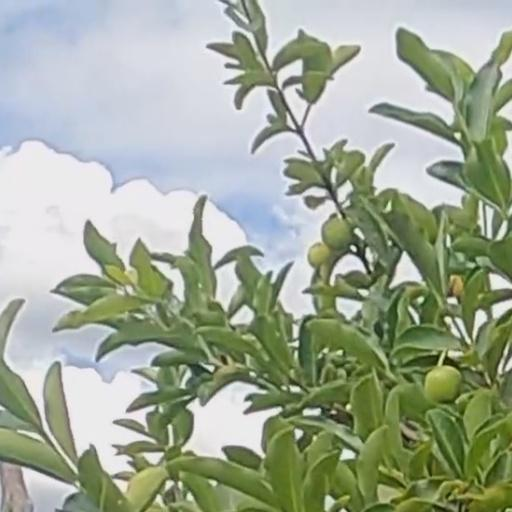acerola_verde: (425, 368, 462, 402), (325, 218, 352, 249)
